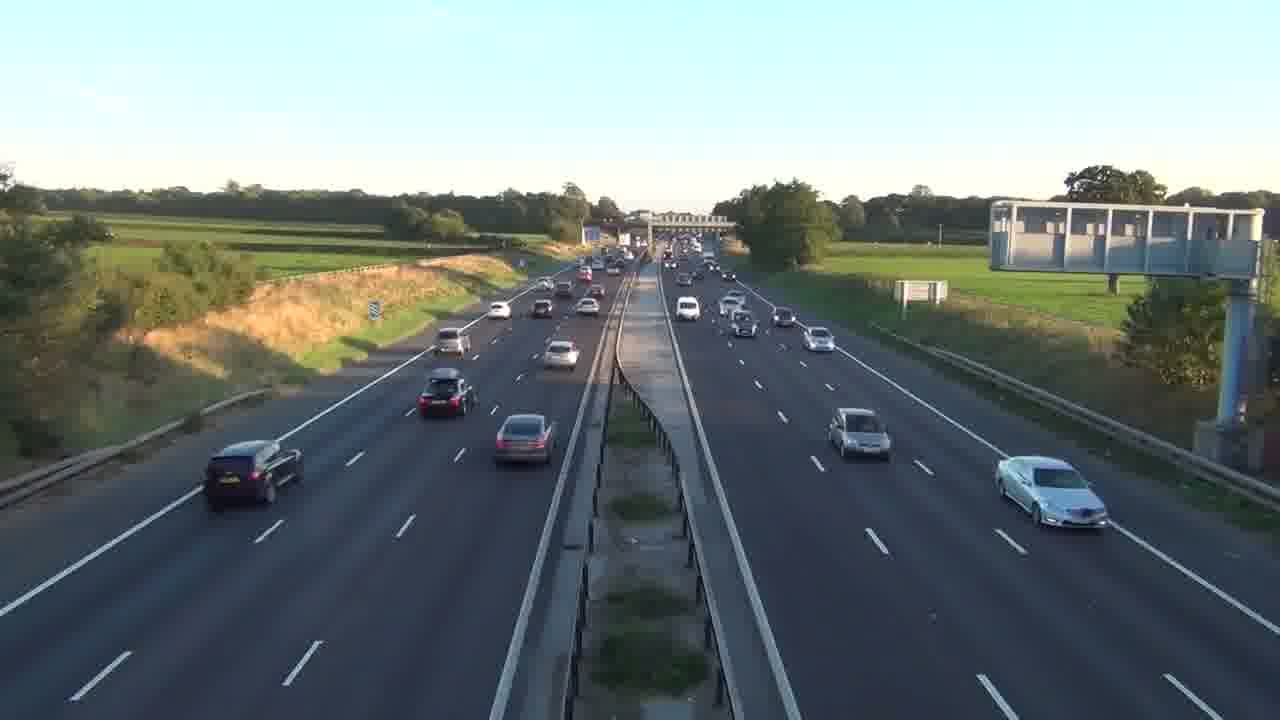car: (994, 454, 1109, 530), (204, 439, 304, 511), (826, 406, 893, 461), (494, 412, 556, 467), (415, 368, 469, 419), (543, 337, 580, 370), (802, 325, 835, 351), (675, 295, 702, 321), (574, 296, 599, 315)
